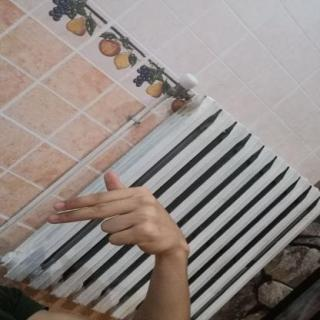GHAYN: (41, 165, 194, 260)
